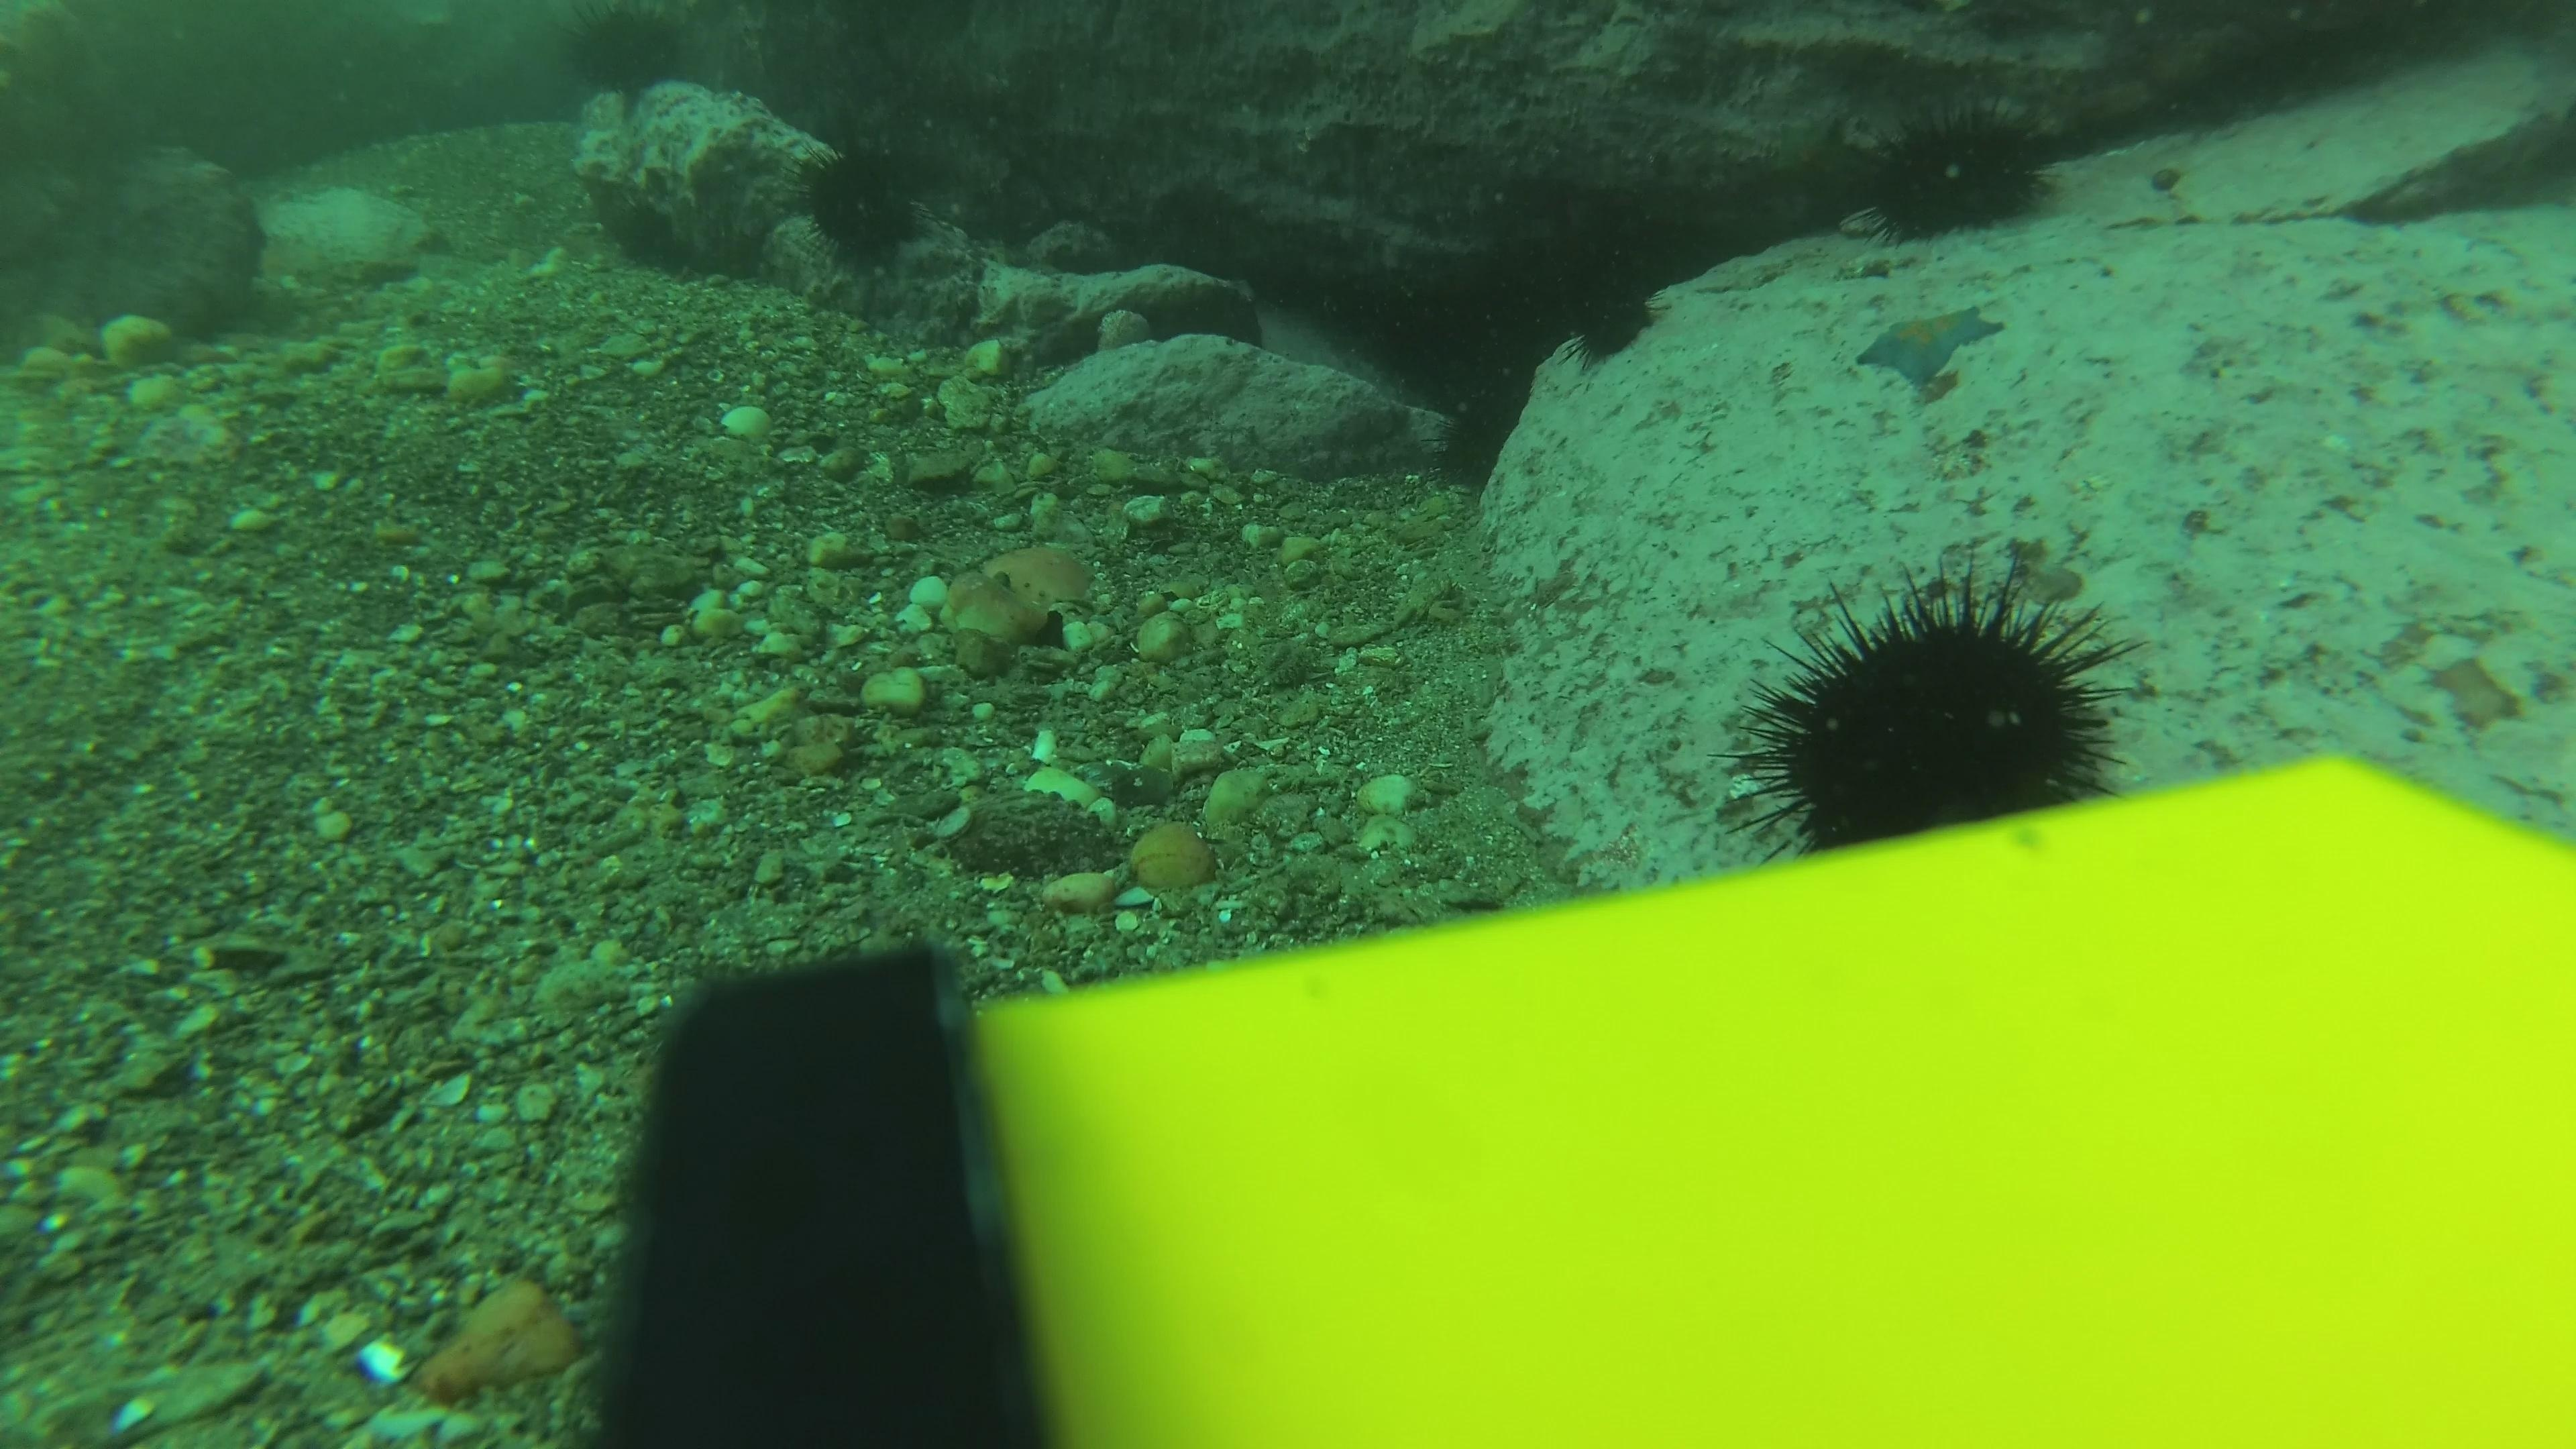echinus: (1732, 561, 2141, 844), (1852, 97, 2065, 248), (793, 136, 932, 269), (554, 2, 702, 103), (1555, 249, 1672, 368)
starfish: (1847, 297, 2012, 393)
